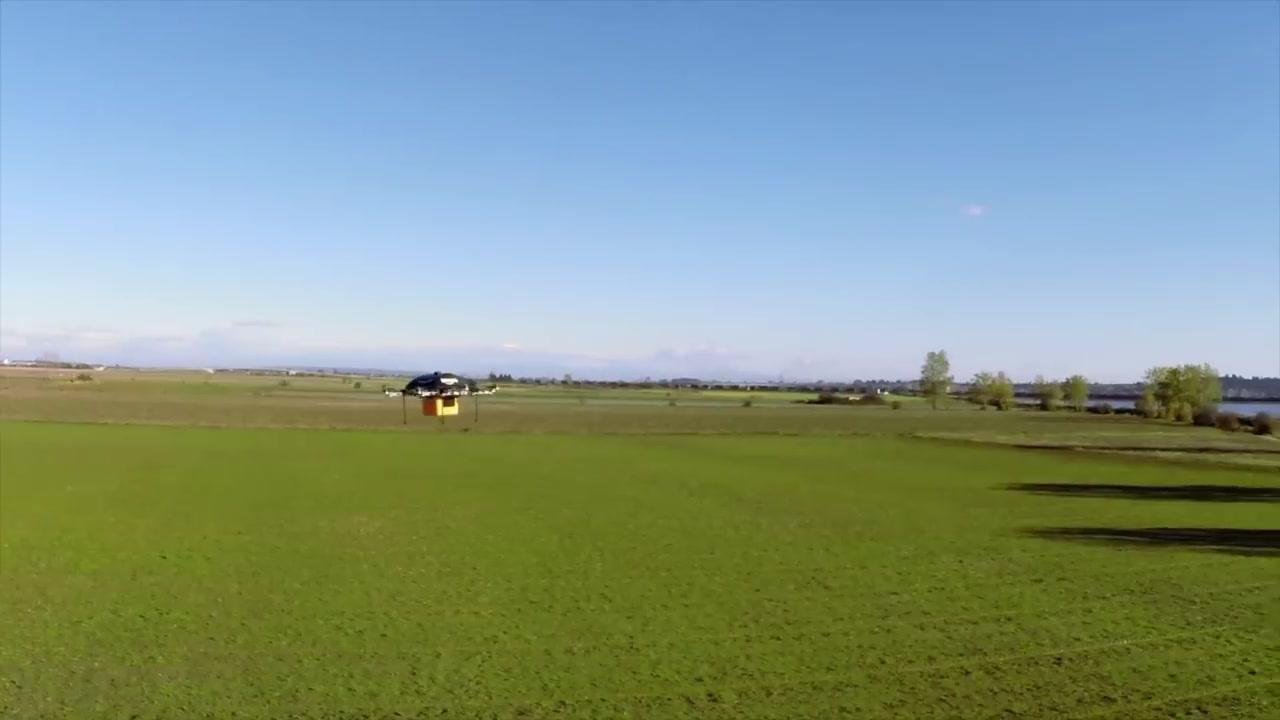UAV: (382, 372, 501, 426)
